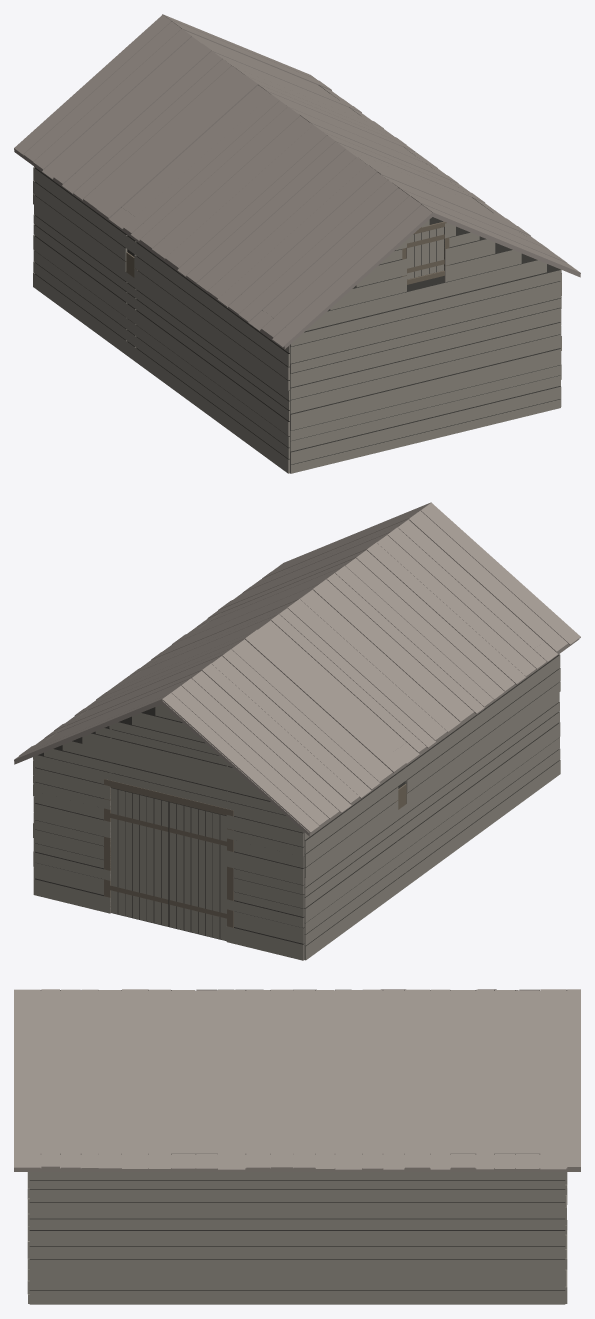
Rendered from recon_1835_west_024__inferred_1835.glb.
The picture shows the model from 3 angles, top to bottom: view 1: azimuth 30°, elevation 25°; view 2: azimuth 150°, elevation 25°; view 3: azimuth 270°, elevation 25°; orthographic projection. The views are drawn at different scales.
Visible parts, largest first — view 1: recon_1835_west_024__inferred_1835; view 2: recon_1835_west_024__inferred_1835; view 3: recon_1835_west_024__inferred_1835.
Part boxes in pixels (<box>): recon_1835_west_024__inferred_1835: <box>14,14,580,473</box>; recon_1835_west_024__inferred_1835: <box>14,502,580,960</box>; recon_1835_west_024__inferred_1835: <box>14,989,580,1304</box>.
Bounding box in the file's own units: 7.46 × 5.55 × 11.62.
